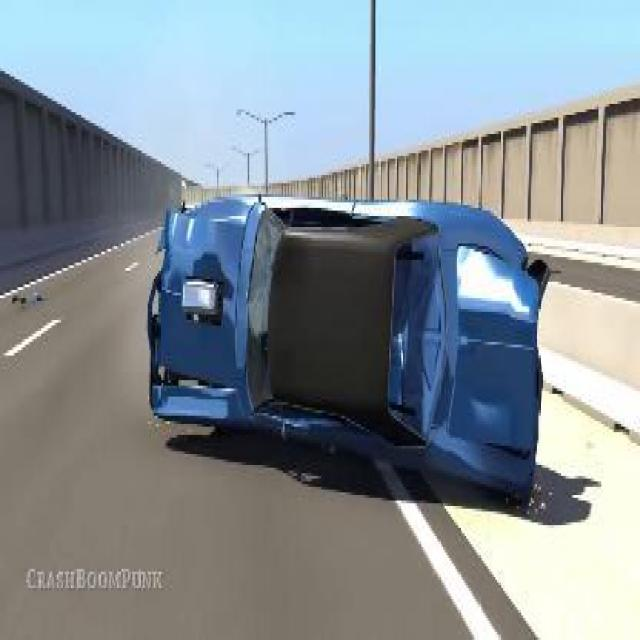accident: (140, 164, 552, 498)
